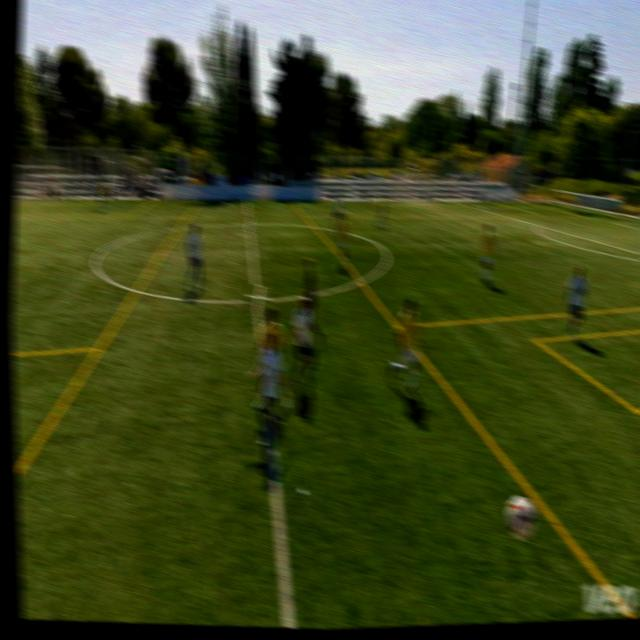bigarea_top_inner: (466, 200, 476, 212)
bigarea_top_outter: (570, 204, 578, 210)
halfcircle_bottom: (243, 284, 271, 318)
halfcircle_top: (241, 214, 256, 232)
midline_top_intersection: (240, 194, 252, 206)
smallarea_top_inner: (608, 217, 617, 227)
top_arc_area_intersection: (534, 221, 544, 229)
